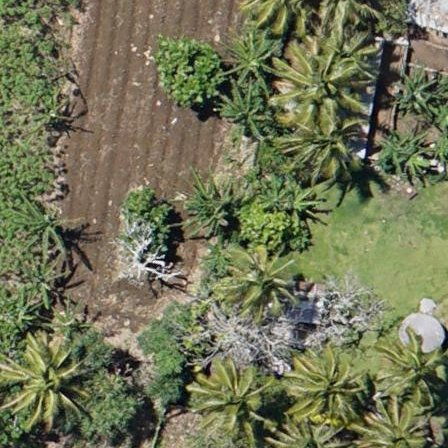palm_tree: (284, 46, 355, 121), (290, 345, 360, 419), (10, 338, 79, 411), (194, 359, 263, 432), (374, 330, 440, 400), (227, 244, 291, 312), (365, 398, 435, 448)
